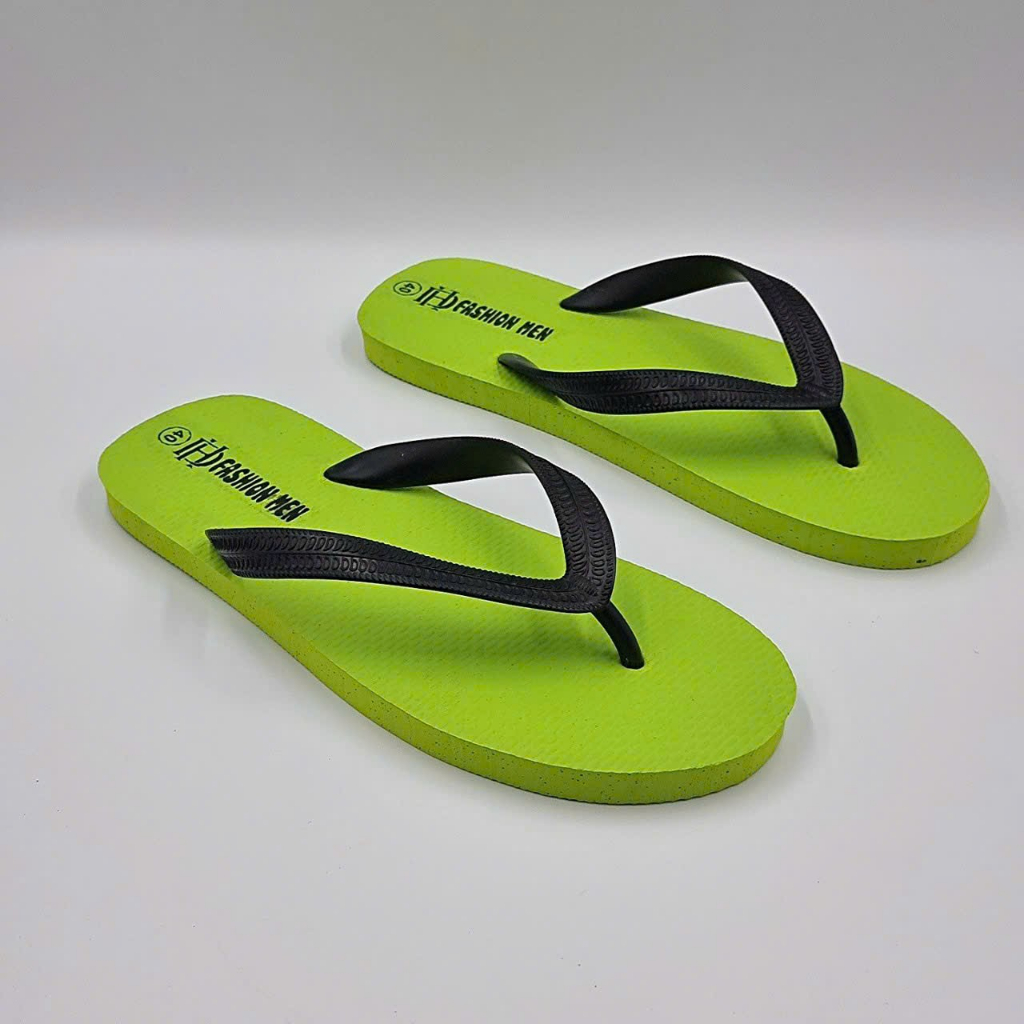flip_flops: (98, 390, 796, 805), (354, 255, 991, 571)
